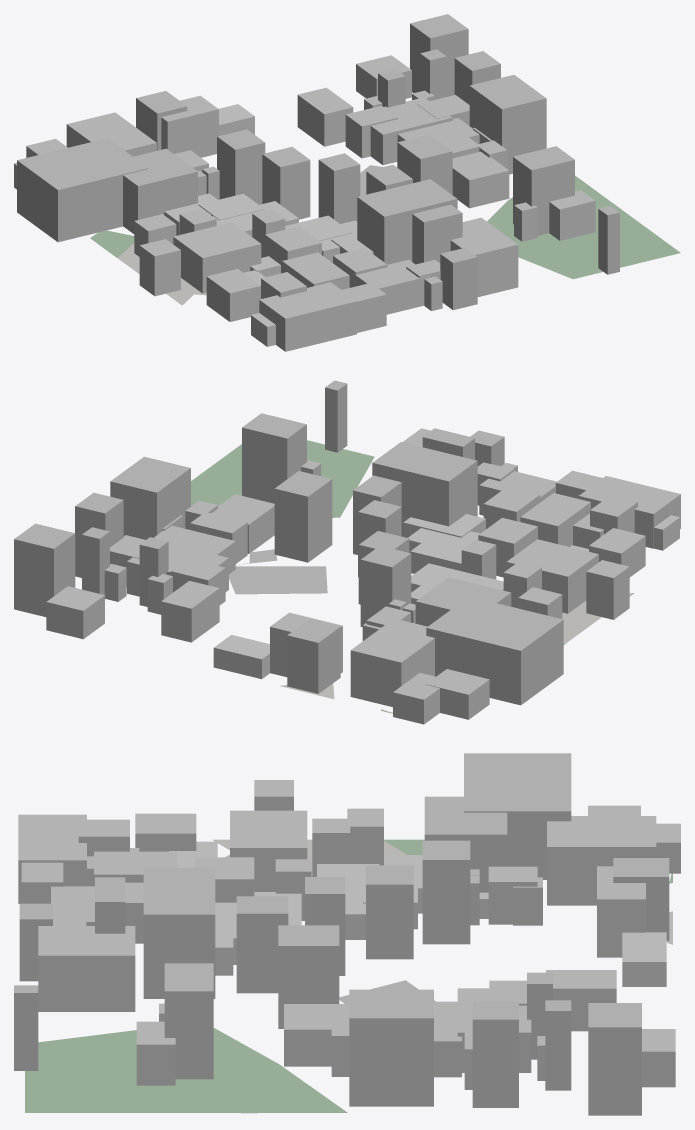
File: 117_100_mid.glb
3 renders of one model, top to bottom at view 1: azimuth 30°, elevation 25°; view 2: azimuth 150°, elevation 25°; view 3: azimuth 270°, elevation 25°, orthographic. The views are drawn at different scales.
Bounding box in the file's own units: 535 × 76.02 × 514.
